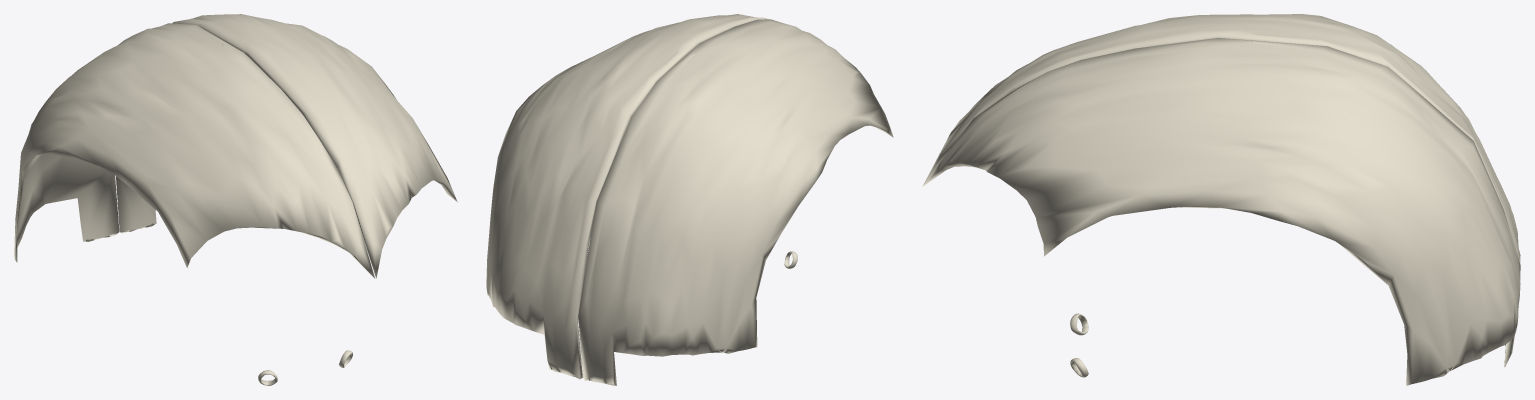
File: tendons-head-mobile.glb
3 renders of one model, left to right at view 1: azimuth 30°, elevation 25°; view 2: azimuth 150°, elevation 25°; view 3: azimuth 270°, elevation 25°, orthographic. The views are drawn at different scales.
Parts seen in each view (by area): view 1: za.epicranial-aponeurosis-r, za.epicranial-aponeurosis-l; view 2: za.epicranial-aponeurosis-r, za.epicranial-aponeurosis-l; view 3: za.epicranial-aponeurosis-l, za.epicranial-aponeurosis-r.
Boxes of the visible parts, x1=… form: za.epicranial-aponeurosis-r: x1=14, y1=23, x2=375, y2=278; za.epicranial-aponeurosis-l: x1=116, y1=14, x2=457, y2=278; za.epicranial-aponeurosis-r: x1=578, y1=19, x2=893, y2=385; za.epicranial-aponeurosis-l: x1=486, y1=14, x2=768, y2=379; za.epicranial-aponeurosis-l: x1=923, y1=38, x2=1520, y2=385; za.epicranial-aponeurosis-r: x1=923, y1=14, x2=1520, y2=346.
Size of the model in its own units: 0.1339 by 0.1113 by 0.1887.
